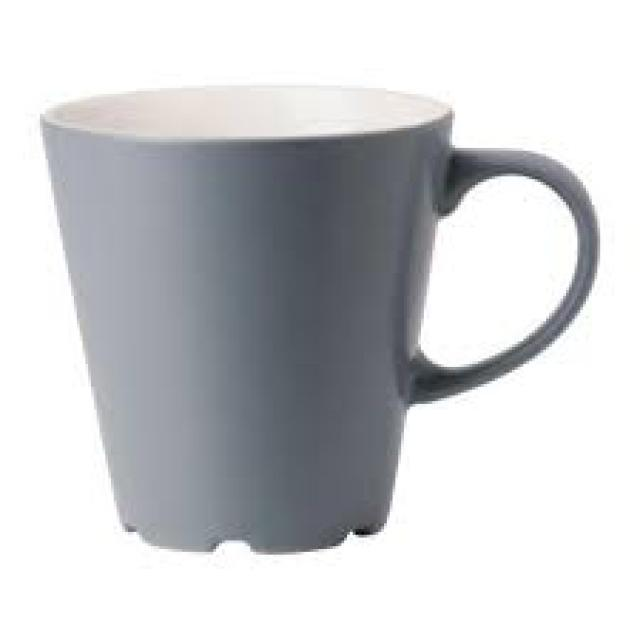taza: (40, 81, 601, 556)
